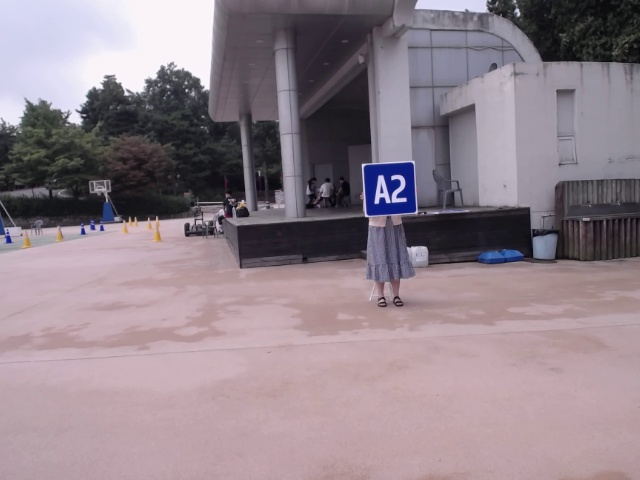delivery_a2: (363, 161, 418, 217)
